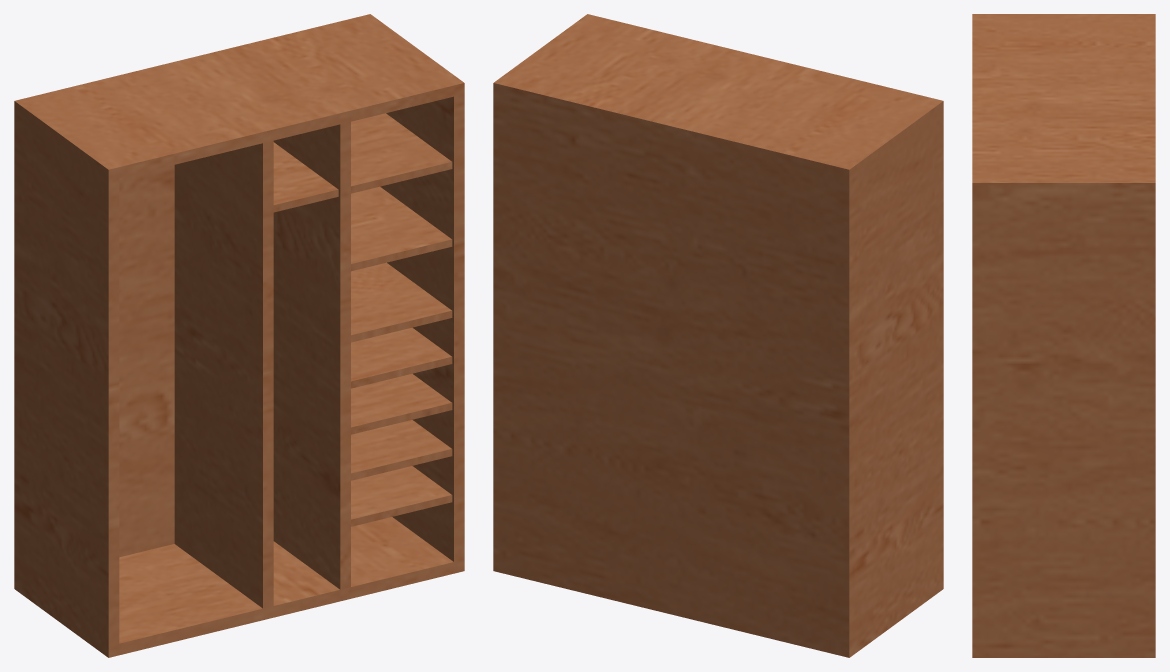
The model's file is Closet07.fbx.
3 views of the same model, side by side, from view 1: azimuth 30°, elevation 25°; view 2: azimuth 150°, elevation 25°; view 3: azimuth 270°, elevation 25° (orthographic). The views are drawn at different scales.
Parts seen in each view (by area): view 1: Closet07; view 2: Closet07; view 3: Closet07.
Boxes of the visible parts, x1,y1,x2,y2 form: Closet07: [14, 14, 464, 657]; Closet07: [493, 14, 943, 657]; Closet07: [972, 14, 1155, 657].
Bounding box in the file's own units: 194 × 254 × 88.93.
